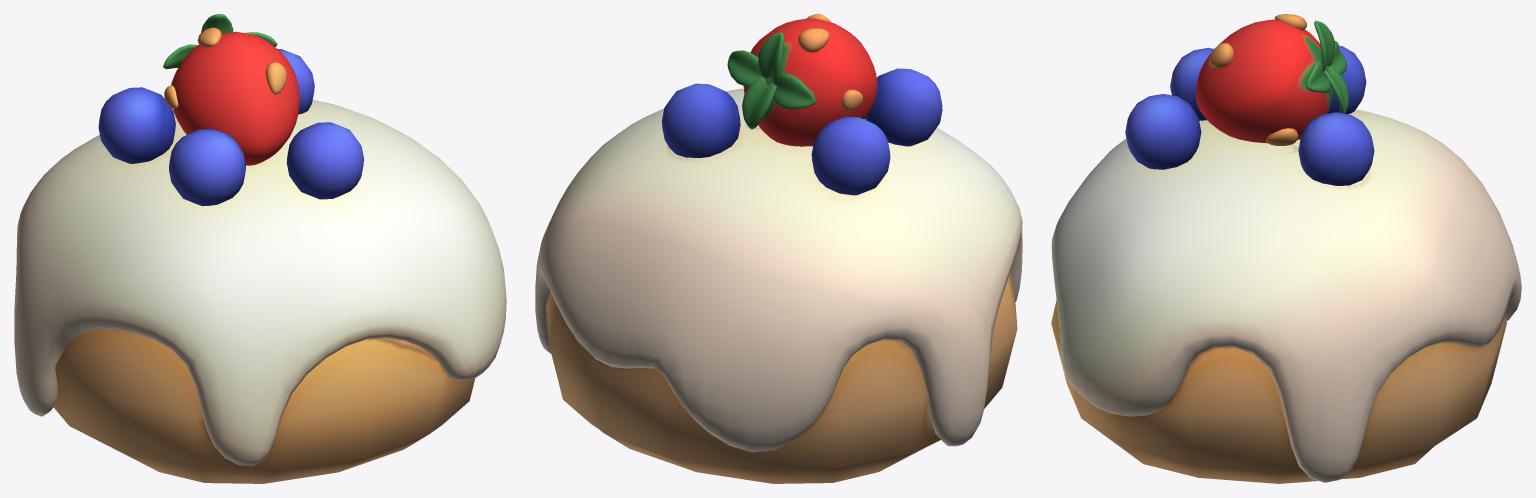
Rendered from pastryHero.gltf.
The picture shows the model from 3 angles, left to right: view 1: azimuth 30°, elevation 25°; view 2: azimuth 150°, elevation 25°; view 3: azimuth 270°, elevation 25°; orthographic projection. The views are drawn at different scales.
Visible parts, largest first — view 1: 1; view 2: 1; view 3: 1.
Part boxes in pixels (box(x1,y1,x2,y2)): 1: box(14, 14, 506, 483); 1: box(535, 14, 1022, 483); 1: box(1051, 14, 1521, 483).
Bounding box in the file's own units: 2.9 × 2.53 × 2.81.
1 material, 1 textured.
